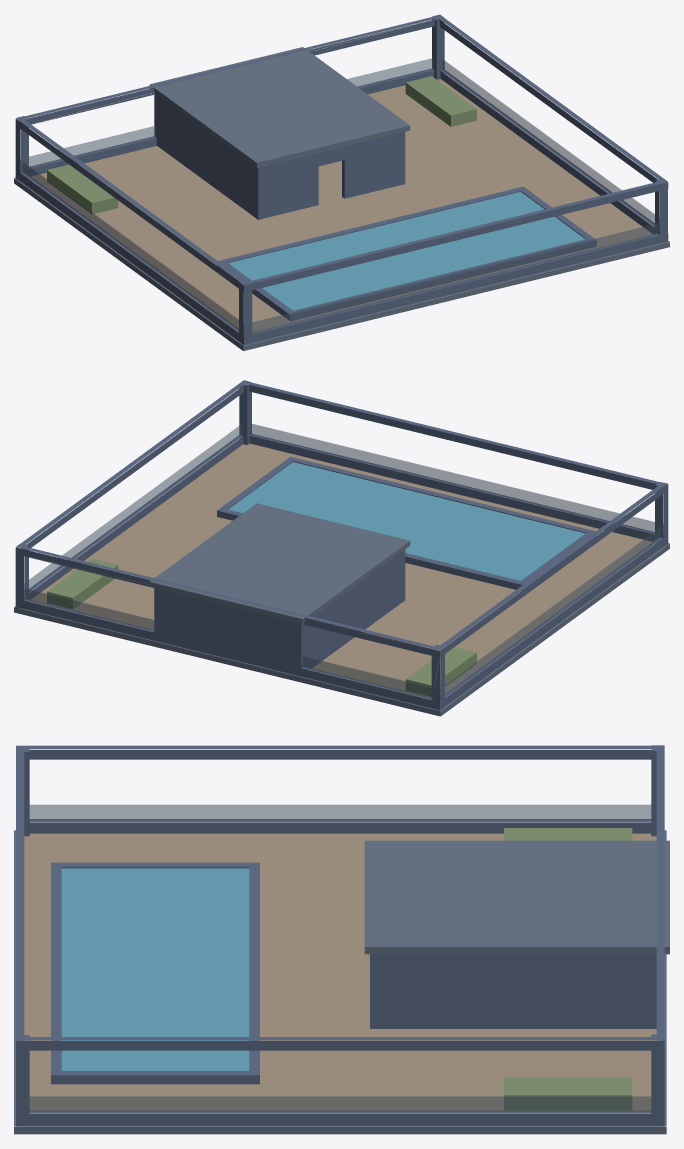
File: office-roof-b.glass-v2.lod1.glb
3 renders of one model, top to bottom at view 1: azimuth 30°, elevation 25°; view 2: azimuth 150°, elevation 25°; view 3: azimuth 270°, elevation 25°, orthographic. The views are drawn at different scales.
Parts seen in each view (by area): view 1: office-roof-b; view 2: office-roof-b; view 3: office-roof-b.
Part boxes in pixels (bbox=[...]): office-roof-b: bbox=[14, 14, 669, 350]; office-roof-b: bbox=[14, 380, 669, 716]; office-roof-b: bbox=[14, 745, 669, 1134].
Size of the model in its own units: 26.16 by 3.86 by 24.48.
